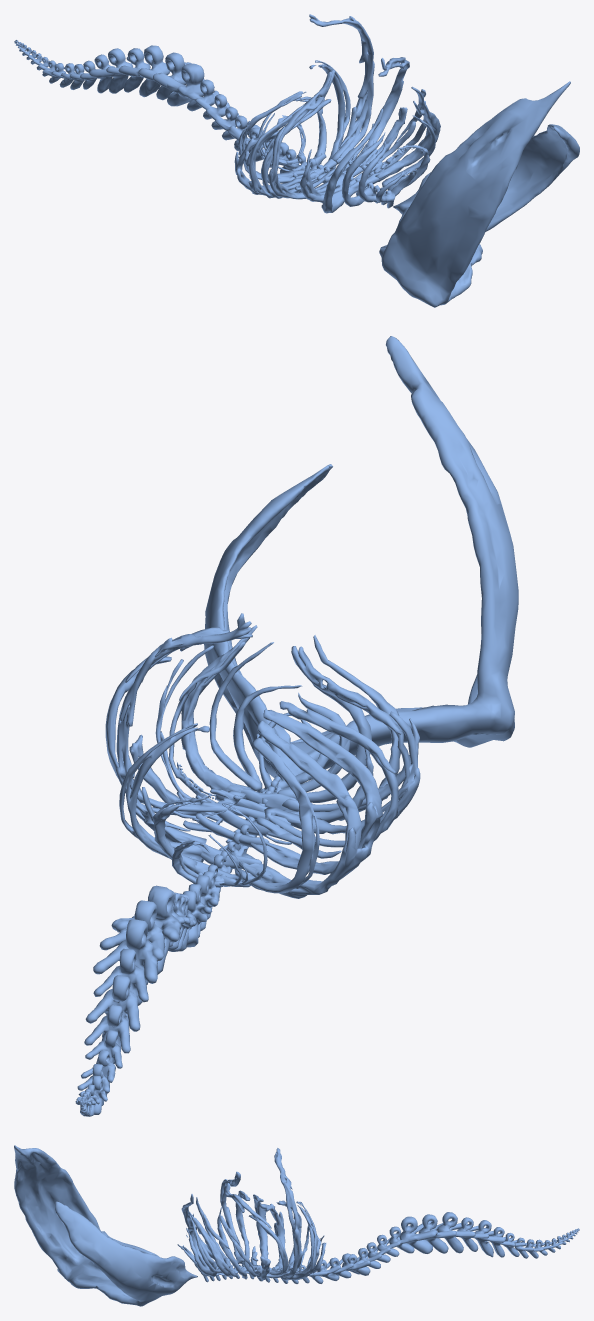
The model's file is wahhhhhh.fbx.
3 renders of one model, top to bottom at view 1: azimuth 30°, elevation 25°; view 2: azimuth 150°, elevation 25°; view 3: azimuth 270°, elevation 25°, orthographic. The views are drawn at different scales.
Parts seen in each view (by area): view 1: whale; view 2: whale; view 3: whale.
Boxes of the visible parts, left/top/right/bottom form: whale: left=14, top=14, right=579, bottom=307; whale: left=75, top=336, right=518, bottom=1116; whale: left=14, top=1145, right=579, bottom=1306.
Bounding box in the file's own units: 879 × 830 × 2521.
